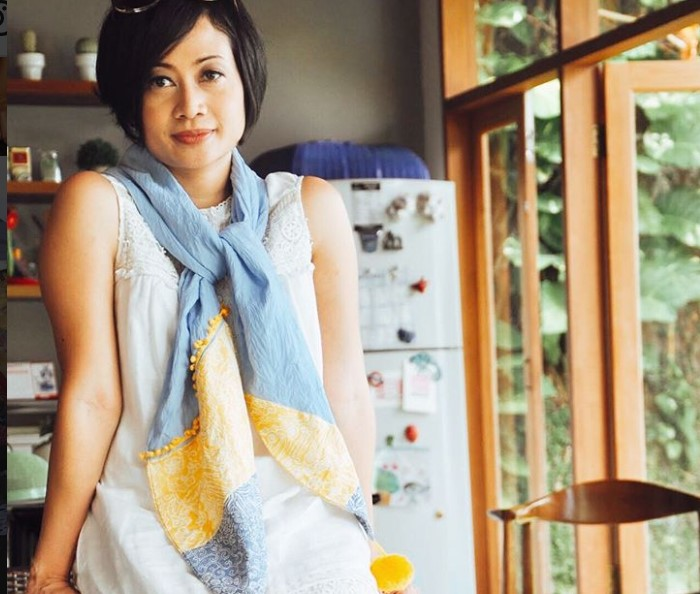face_no_mask: (114, 7, 257, 166)
